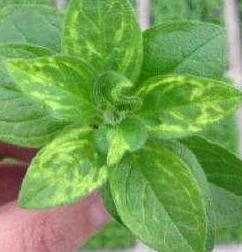Tomato leaf mosaic virus: (106, 144, 207, 252), (64, 0, 147, 109), (4, 55, 109, 128), (132, 73, 242, 138)
